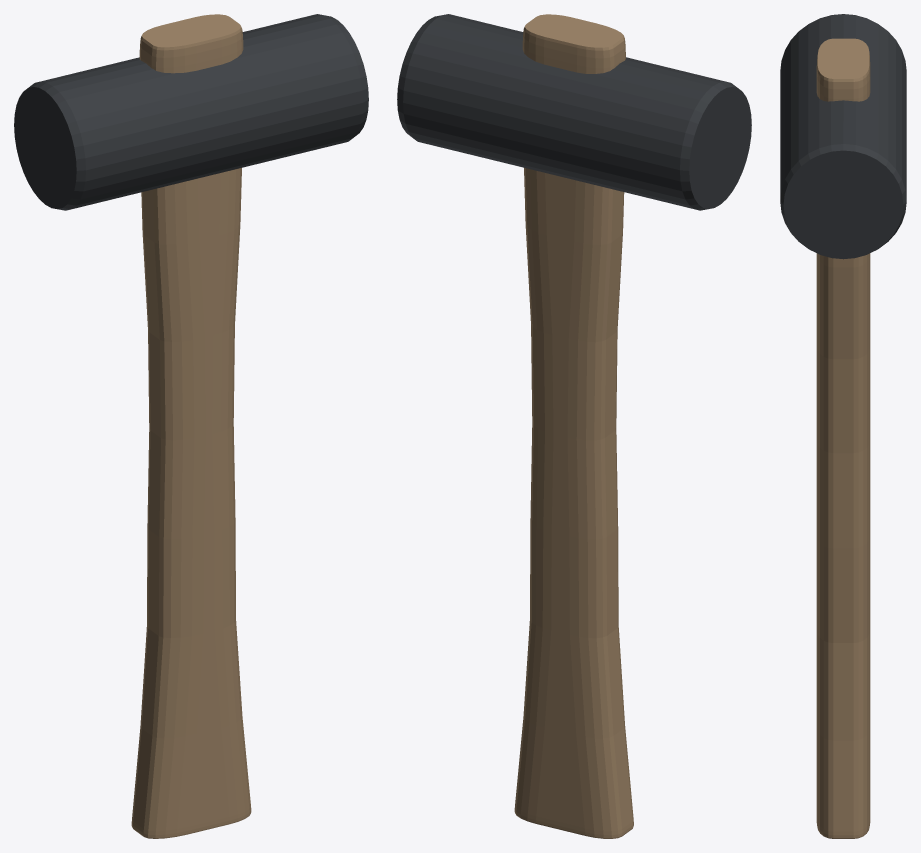
File: kanazuti.fbx
3 views of the same model, side by side, from view 1: azimuth 30°, elevation 25°; view 2: azimuth 150°, elevation 25°; view 3: azimuth 270°, elevation 25° (orthographic). The views are drawn at different scales.
Visible parts, largest first — view 1: Cube, Cylinder; view 2: Cube, Cylinder; view 3: Cube, Cylinder.
Boxes of the visible parts, x1=… form: Cube: x1=131, y1=14, x2=251, y2=838; Cylinder: x1=14, y1=14, x2=368, y2=210; Cube: x1=514, y1=14, x2=633, y2=838; Cylinder: x1=397, y1=14, x2=751, y2=210; Cube: x1=816, y1=38, x2=870, y2=838; Cylinder: x1=780, y1=14, x2=906, y2=259.
Size of the model in its own units: 117 by 302 by 45.85.
